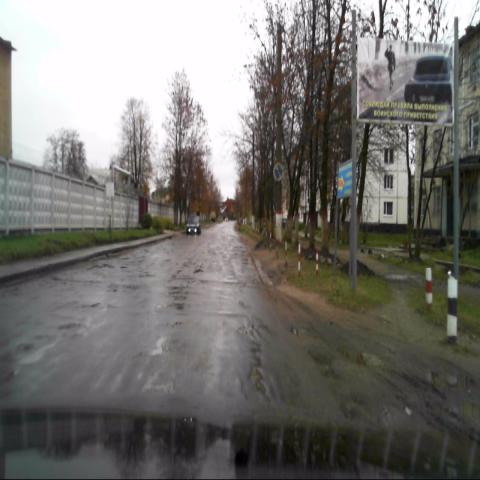3_28: (273, 163, 283, 181)
